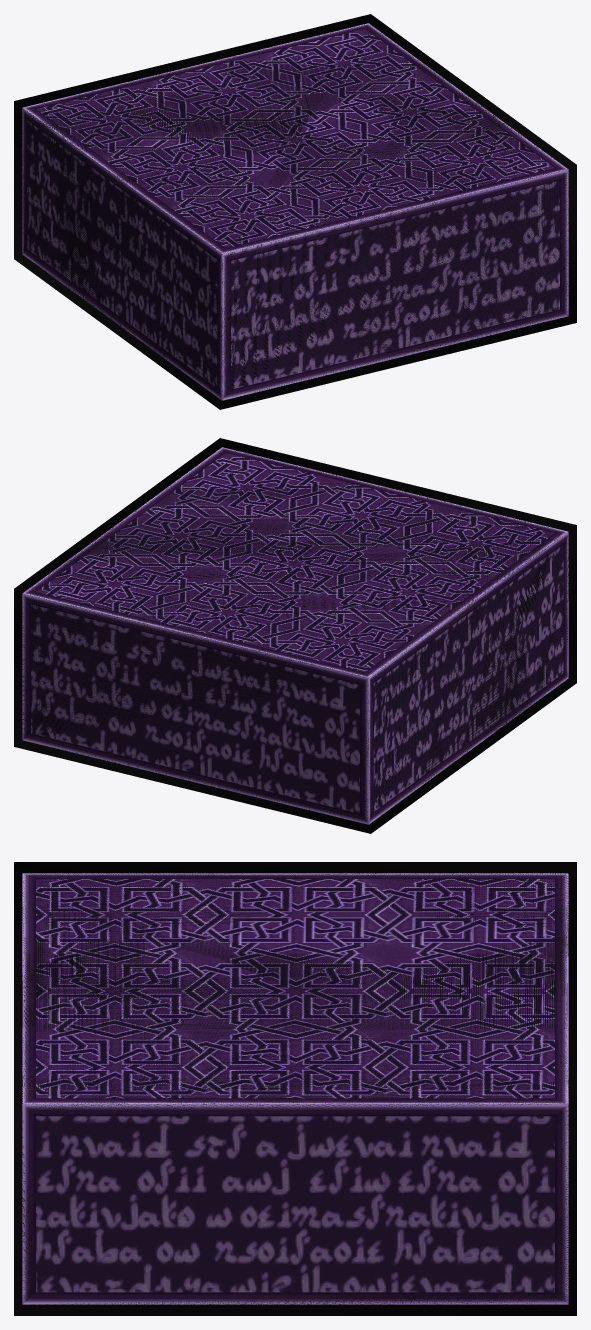
File: WonderBlock2.gltf
3 renders of one model, top to bottom at view 1: azimuth 30°, elevation 25°; view 2: azimuth 150°, elevation 25°; view 3: azimuth 270°, elevation 25°, orthographic. The views are drawn at different scales.
Parts seen in each view (by area): view 1: WonderBlock2Mesh, WonderBlock2ZWriteMesh, WonderBlock2BloomMesh; view 2: WonderBlock2Mesh, WonderBlock2ZWriteMesh, WonderBlock2BloomMesh; view 3: WonderBlock2Mesh, WonderBlock2ZWriteMesh, WonderBlock2BloomMesh.
Part boxes in pixels (box(x1,y1,x2,y2)): WonderBlock2Mesh: box(22, 23, 568, 400); WonderBlock2ZWriteMesh: box(22, 24, 568, 396); WonderBlock2BloomMesh: box(14, 14, 576, 409); WonderBlock2Mesh: box(22, 447, 568, 824); WonderBlock2ZWriteMesh: box(22, 448, 568, 821); WonderBlock2BloomMesh: box(14, 438, 576, 833); WonderBlock2Mesh: box(22, 873, 568, 1304); WonderBlock2ZWriteMesh: box(22, 873, 568, 1304); WonderBlock2BloomMesh: box(14, 862, 576, 1315).
Size of the model in its own units: 5.2 by 2.2 by 5.2.
Materials: 4 (2 with a texture image).
